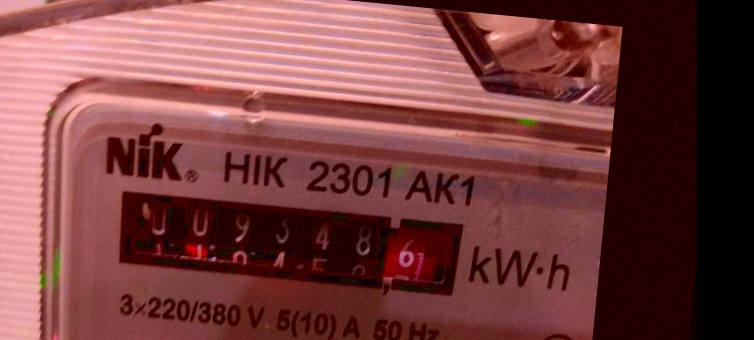0: (187, 202, 211, 240), (146, 200, 169, 237)
3: (269, 211, 294, 245)
4: (308, 214, 333, 253)
6: (394, 233, 419, 269)
8: (351, 221, 374, 256)
9: (230, 207, 251, 242)
screen: (90, 173, 483, 311)
